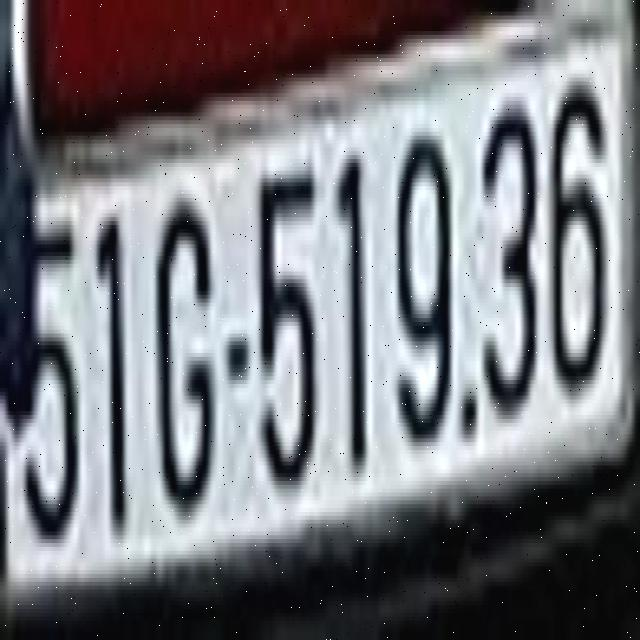1: (330, 128, 372, 481), (94, 192, 131, 545)
3: (480, 87, 537, 429)
5: (256, 138, 320, 498), (24, 206, 81, 554)
6: (550, 64, 609, 409)
9: (394, 114, 454, 456)
G: (153, 178, 216, 520)
